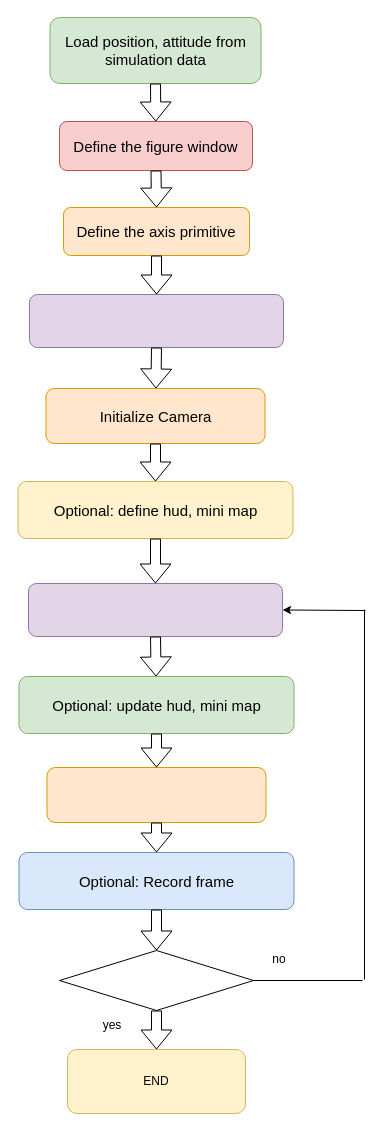
Image size: 391x1131. Some labels were removed from this diagram. Here are the shapes that lost their labels. From the top down, the centre of each, then its label:
At (156,321): "Define trajectories, and 3d models.".
At (155,609): "Transform 3d models".
At (156,794): "Update Camera".
At (156,980): "loop end?".
